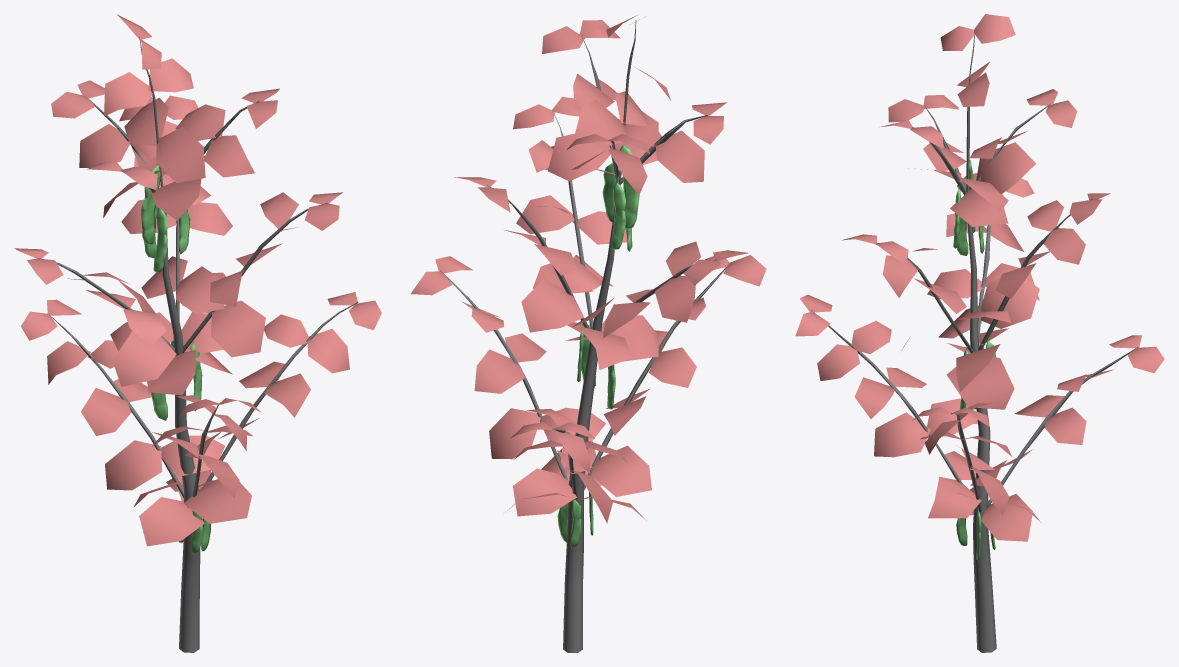
File: SM_plant_beans_A.gltf
3 views of the same model, side by side, from view 1: azimuth 30°, elevation 25°; view 2: azimuth 150°, elevation 25°; view 3: azimuth 270°, elevation 25° (orthographic). The views are drawn at different scales.
Visible parts, largest first — view 1: SM_plant_beans_A; view 2: SM_plant_beans_A; view 3: SM_plant_beans_A.
Part boxes in pixels (left/top/right/bottom): SM_plant_beans_A: left=14, top=14, right=381, bottom=652; SM_plant_beans_A: left=410, top=14, right=766, bottom=652; SM_plant_beans_A: left=795, top=14, right=1164, bottom=652.
Size of the model in its own units: 0.5553 by 1.05 by 0.5804.
